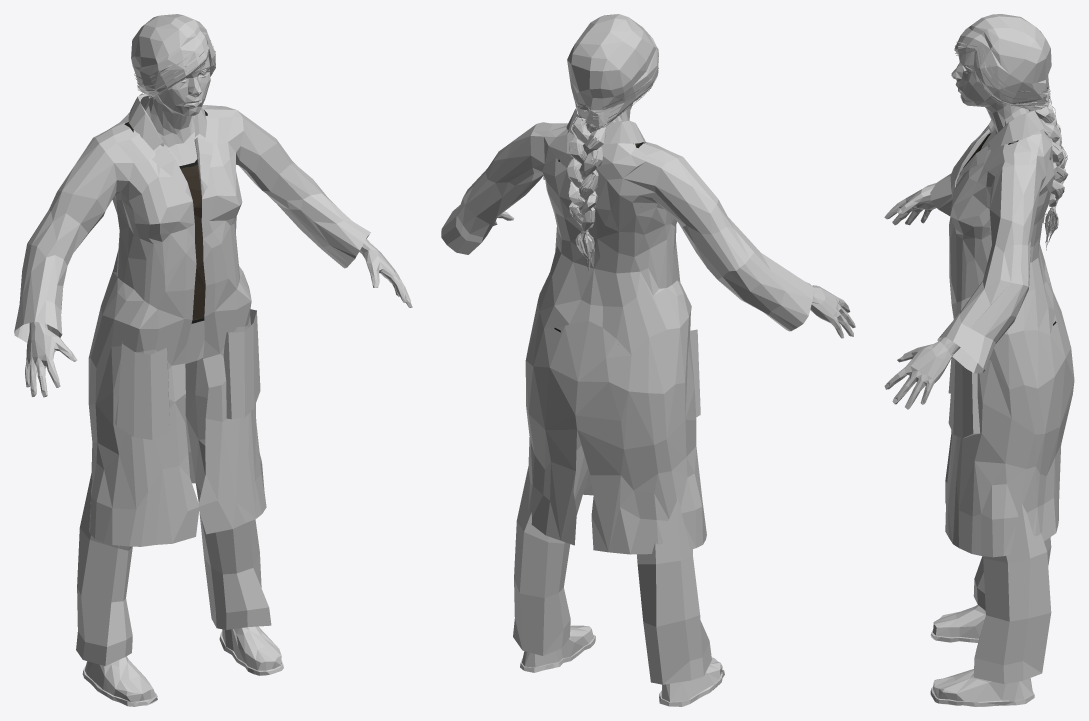
Rendered from doc2.fbx.
3 views of the same model, side by side, from view 1: azimuth 30°, elevation 25°; view 2: azimuth 150°, elevation 25°; view 3: azimuth 270°, elevation 25° (orthographic).
Visible parts, largest first — view 1: doc2; view 2: doc2; view 3: doc2.
Part boxes in pixels (<box>): doc2: <box>14,14,412,706</box>; doc2: <box>441,14,855,706</box>; doc2: <box>884,14,1074,706</box>.
Bounding box in the file's own units: 340 × 558 × 147.
